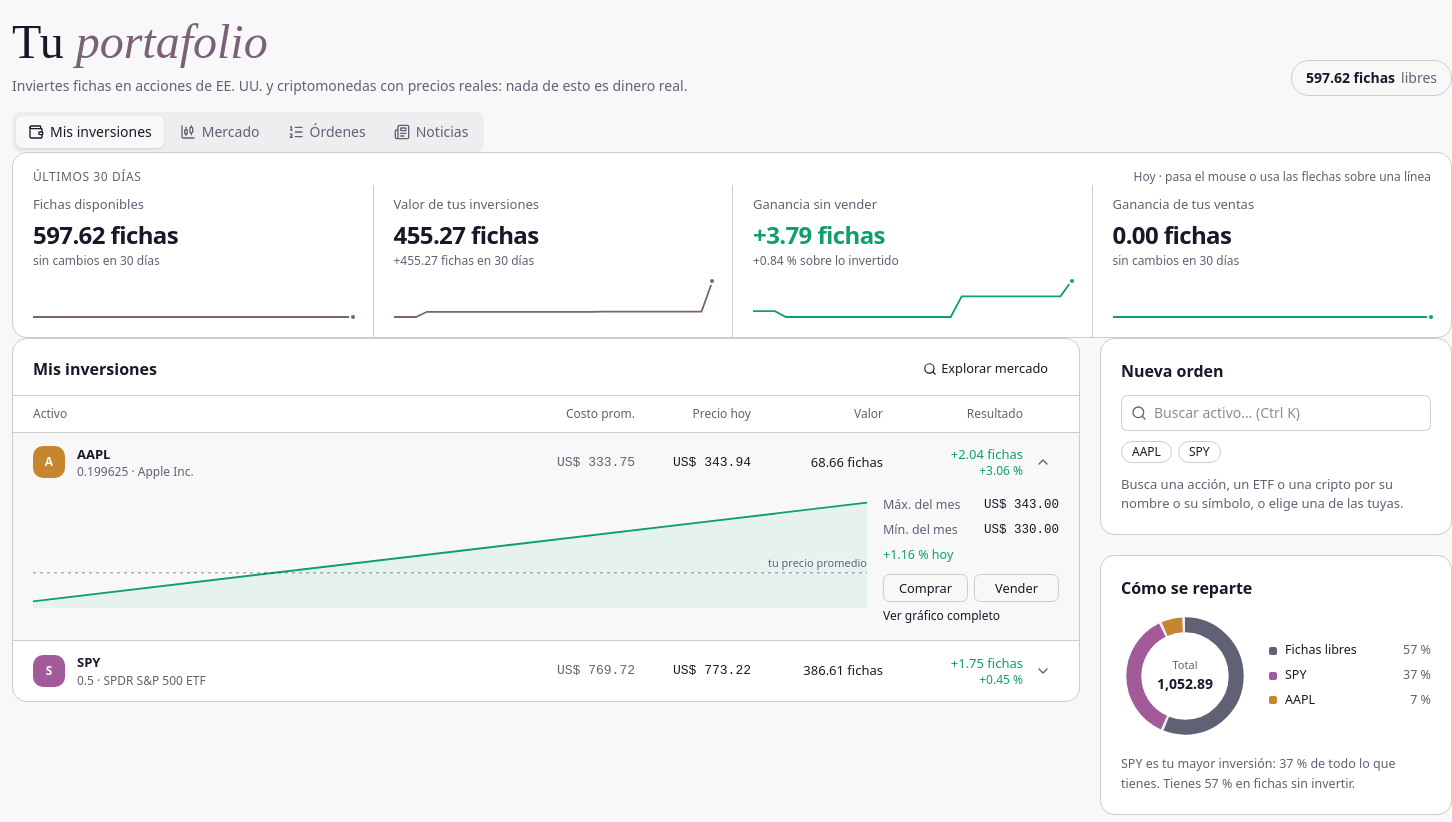
it: PortfolioPage › la primera posicion viene abierta con su mes y se puede cerrar
This screenshot has width=1452, height=822.
Expected: the picture named "AAPL: cierres del último mes" is shown, [33,496,867,608]
Expected: the text "+1.16 % hoy" is shown, [883,546,953,562]
Click the button "AAPL".
click(49, 462)  # box [13,432,1079,492]
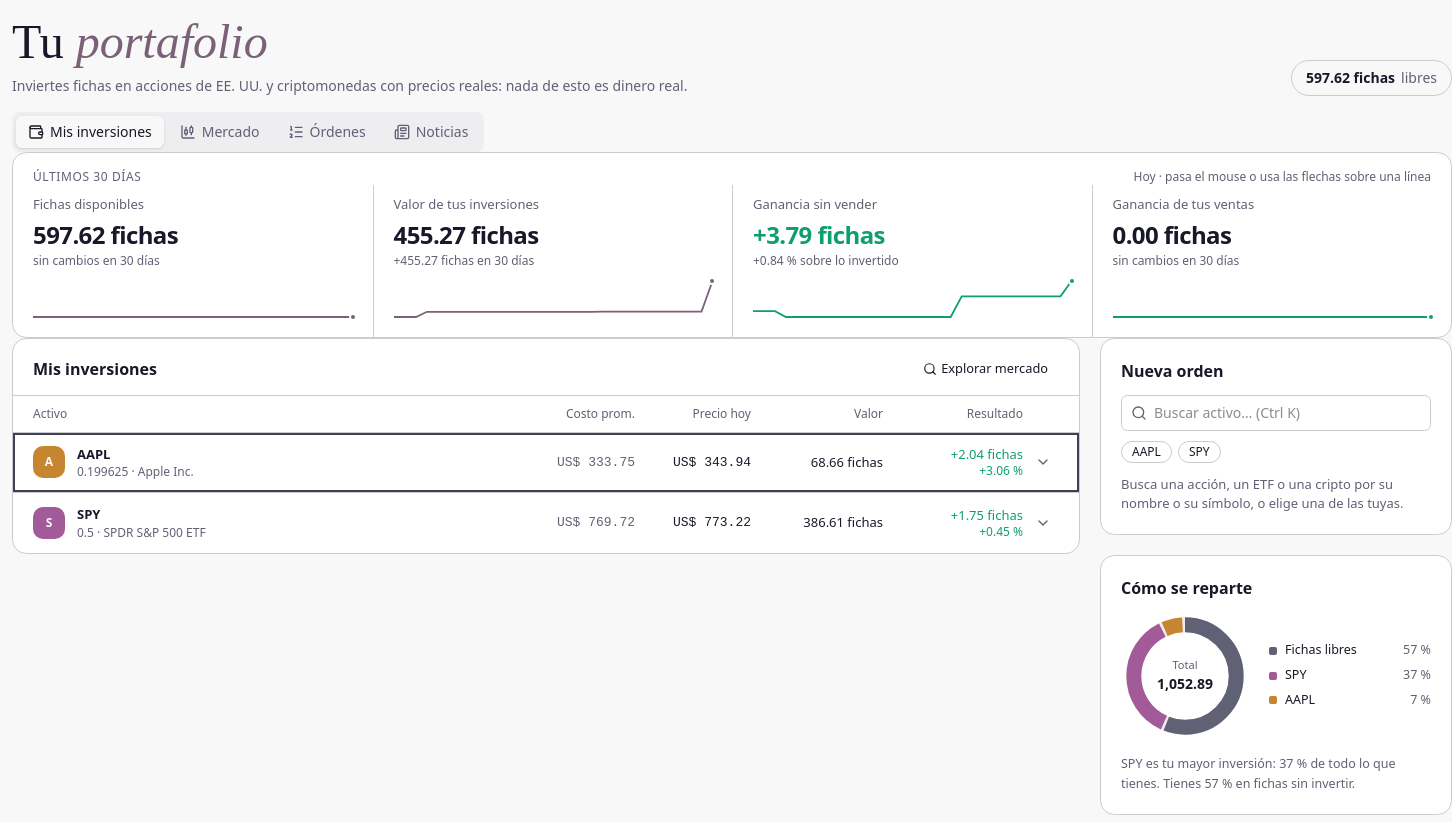
Result: the button "AAPL" is collapsed at [13,432,1079,492]
